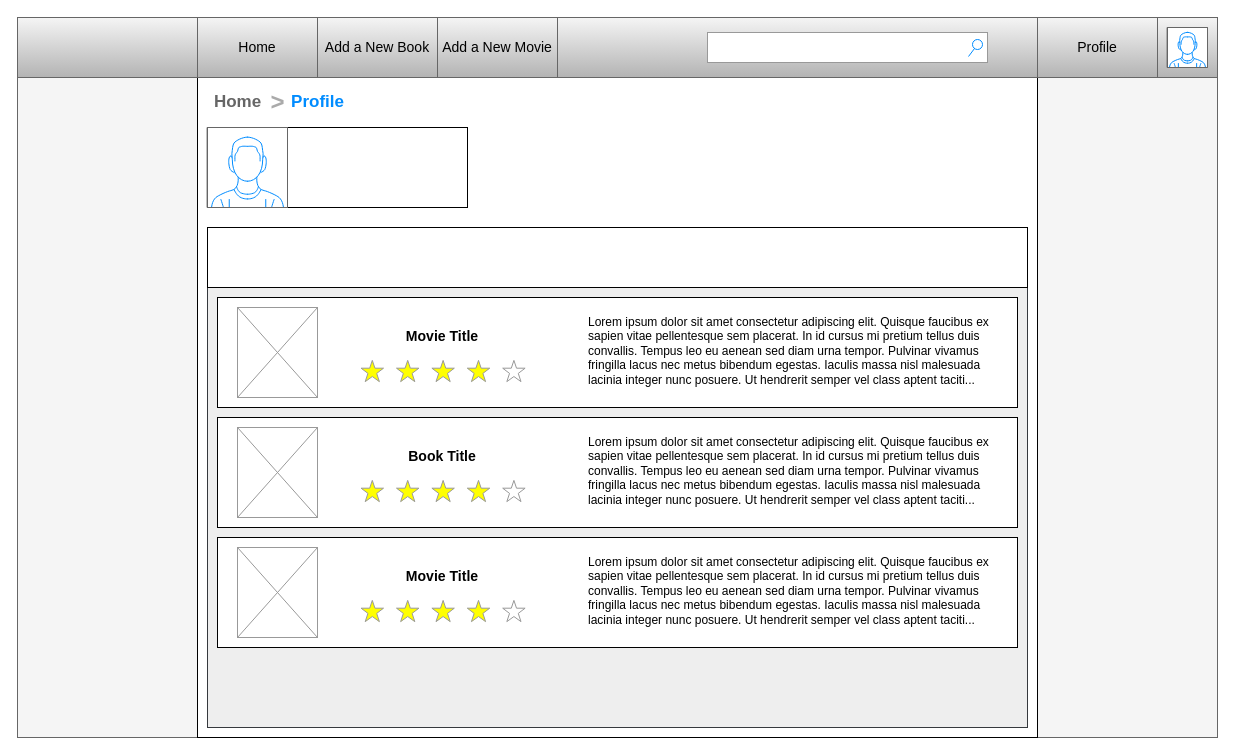
This 1235x755 diagram has some shape labels left out. The box of each missing label's shape, as (x1, y1, x2, y2) in pixels:
$Username: (286, 126, 468, 208)
$Username's Recent Reviews: (206, 226, 1028, 288)
Page2Screen: (16, 16, 198, 78)
Search: (706, 32, 988, 62)
